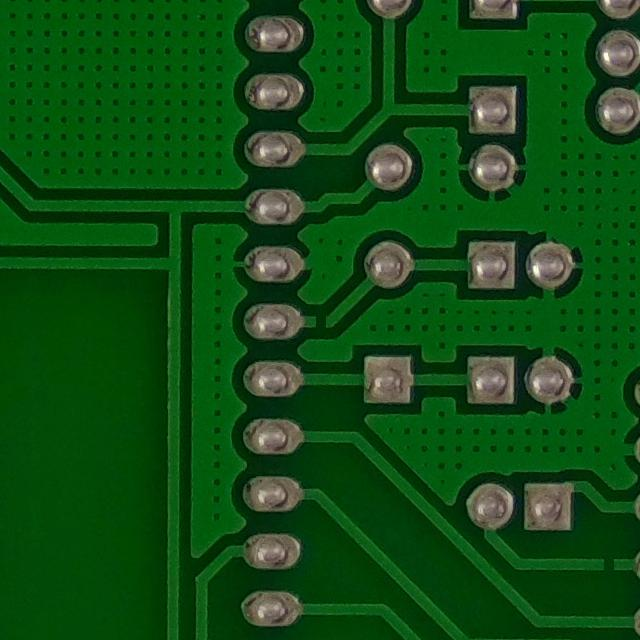open_circuit: (307, 307, 334, 334)
